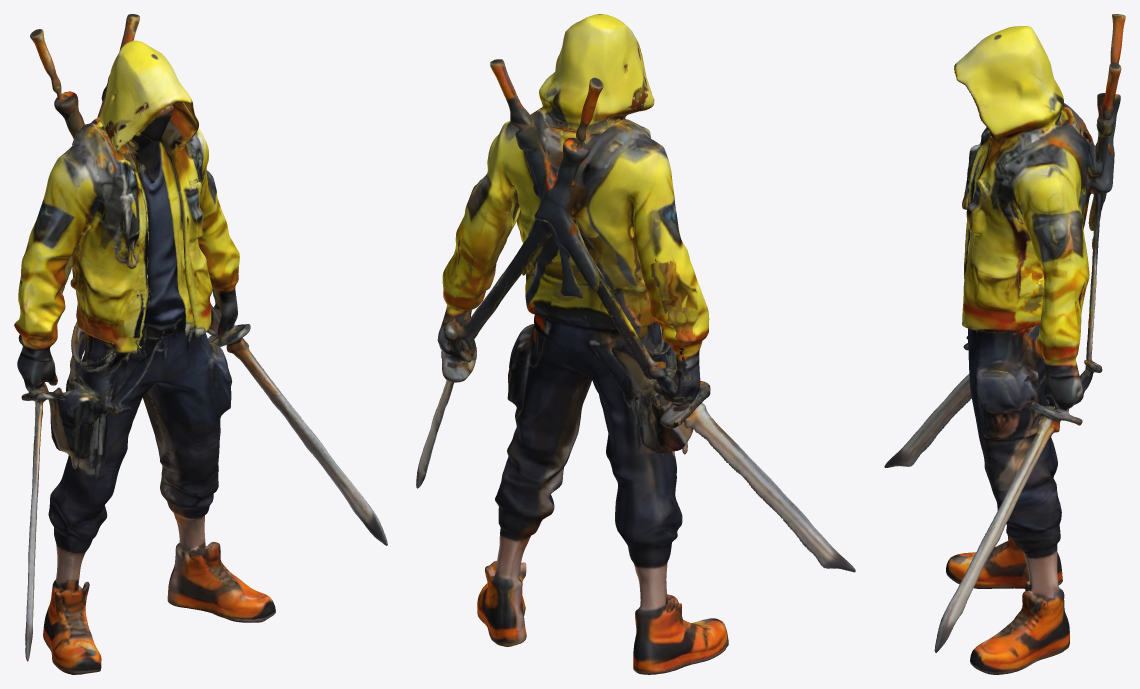
Rendered from hero-1.glb.
3 renders of one model, left to right at view 1: azimuth 30°, elevation 25°; view 2: azimuth 150°, elevation 25°; view 3: azimuth 270°, elevation 25°, orthographic. The views are drawn at different scales.
Visible parts, largest first — view 1: Mesh1; view 2: Mesh1; view 3: Mesh1.
Part boxes in pixels (x1,y1,x2,y2): Mesh1: [14, 14, 387, 674]; Mesh1: [416, 14, 855, 674]; Mesh1: [884, 14, 1125, 674].
Bounding box in the file's own units: 1.37 × 2 × 0.7408.
Materials: 1 (1 with a texture image).
